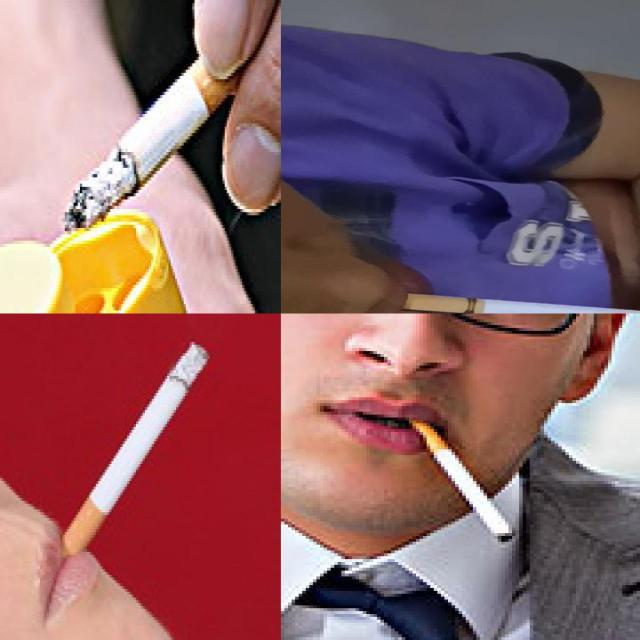smoking: (61, 26, 258, 235), (50, 342, 210, 582), (405, 411, 523, 539), (403, 292, 639, 313)
